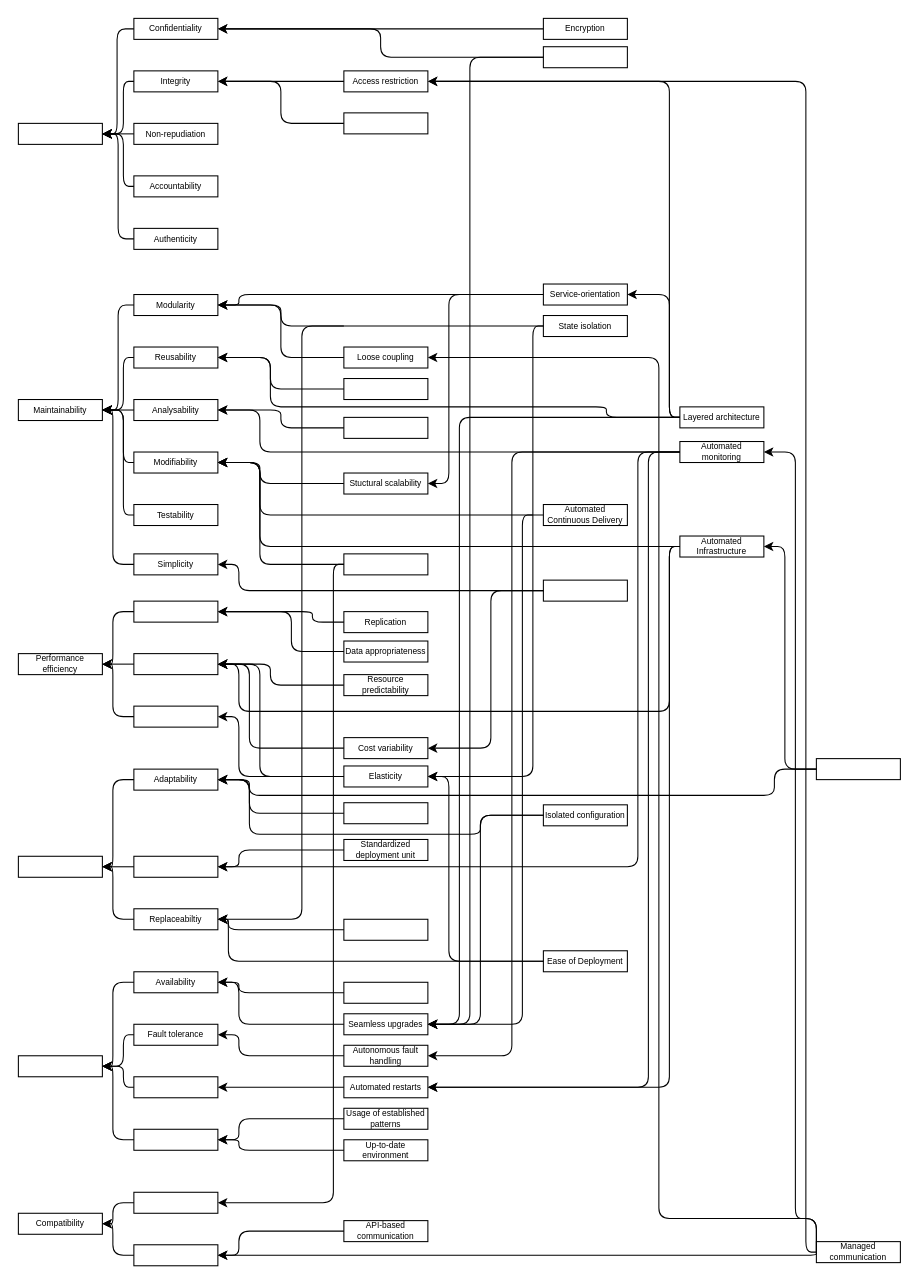
The diagram is 919 pixels wide and 1284 high, and some of its shapes have lost their labels. The centre of each missing label's shape, as x and y in pixels:
Artifact trustworthiness: the point at 385,123
Capability: the point at 175,716
Cloud vendor abstraction: the point at 385,813
Co-existence: the point at 175,1202
Distribution: the point at 385,992
Identifiability: the point at 385,427
Immutable artifacts: the point at 385,929
Infrastructure abstraction: the point at 857,769
Installability: the point at 175,866
Interoperability: the point at 175,1255
Isolated secrets: the point at 584,57
Maturity: the point at 175,1139
Operation outsourcing: the point at 584,590
Portability: the point at 59,866
Recoverability: the point at 175,1087
Reliability: the point at 59,1066
Resource utilisation: the point at 175,664
Security: the point at 59,133
Service independence: the point at 385,564
Standardization: the point at 385,388
Time behaviour: the point at 175,611
